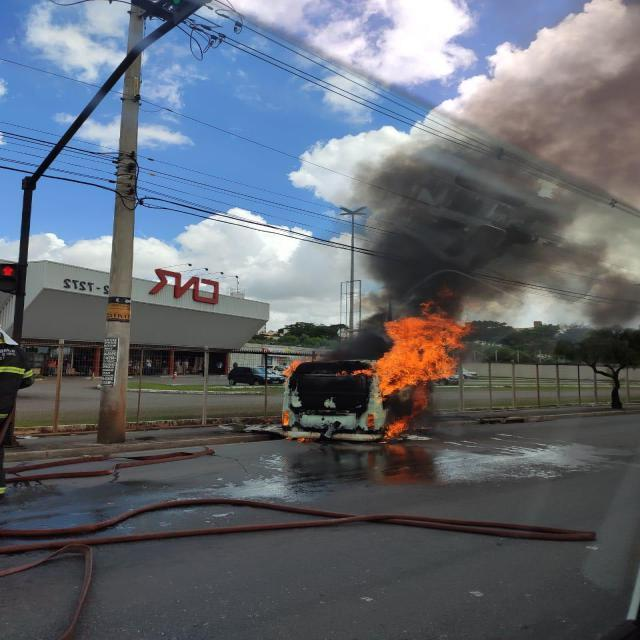Fire: (350, 303, 476, 403), (386, 417, 410, 437), (283, 360, 301, 377), (281, 413, 290, 425)
